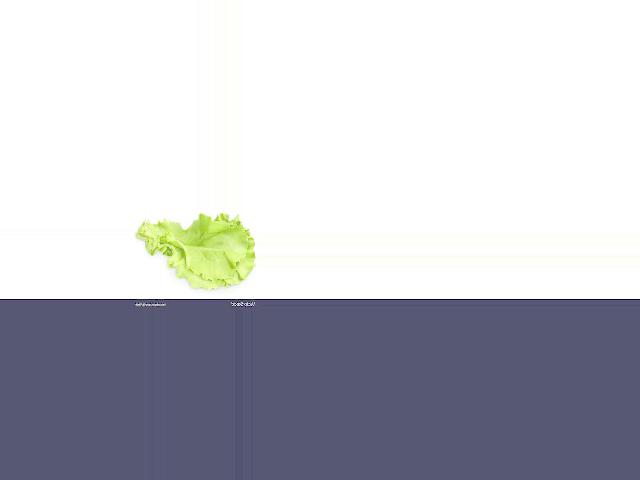lettuce: (138, 212, 255, 296)
